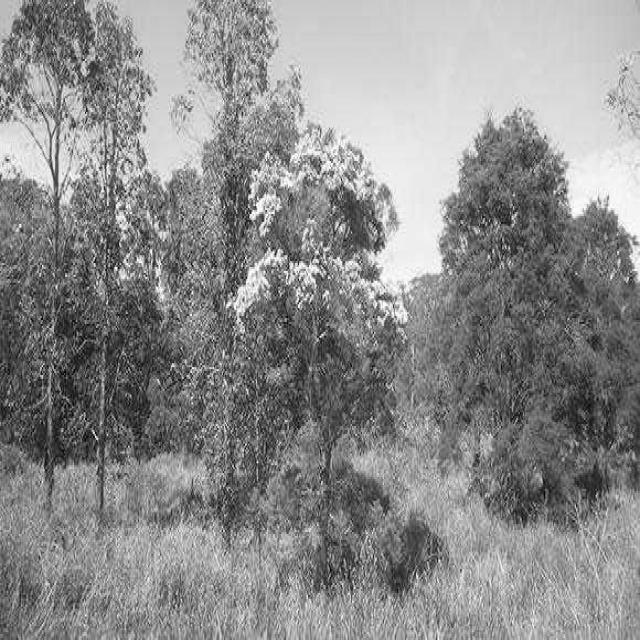Tree: (400, 109, 640, 518), (164, 0, 301, 539), (234, 126, 405, 492), (0, 0, 92, 508), (84, 2, 152, 513)
